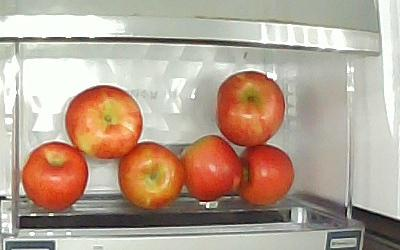apple: (66, 85, 145, 160), (215, 71, 285, 148), (20, 141, 88, 211), (119, 142, 185, 211), (180, 136, 242, 199), (238, 145, 295, 208)
